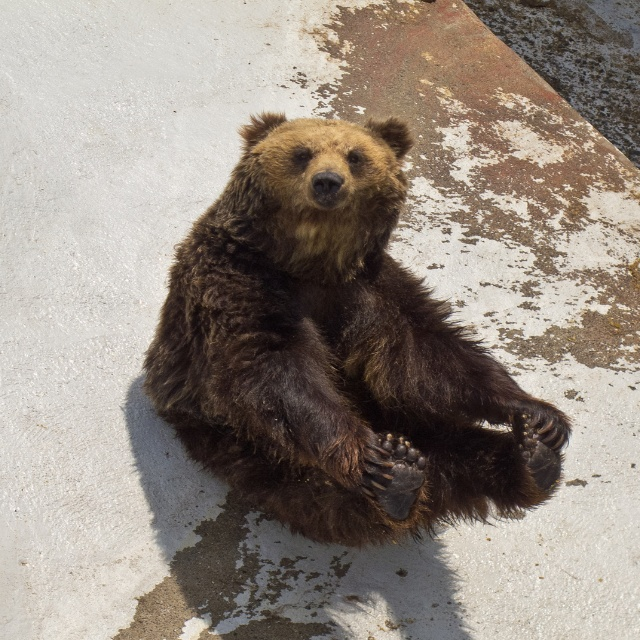Brown bear: (139, 108, 575, 550)
